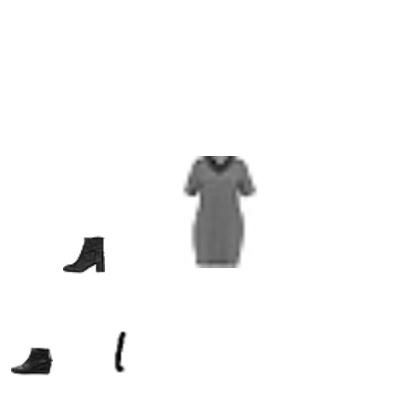1: (91, 324, 147, 380)
Ankle_boot: (63, 233, 105, 275), (11, 339, 53, 381)
Dress: (164, 156, 276, 268)
